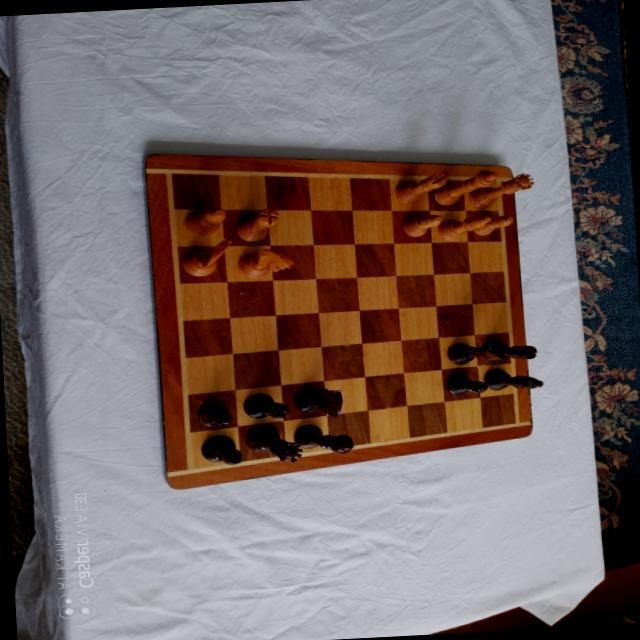black-bishop: (482, 365, 543, 392), (199, 433, 243, 467)
black-king: (294, 422, 354, 457)
black-knight: (293, 384, 345, 420), (446, 340, 508, 367)
black-pawn: (445, 372, 487, 396), (196, 400, 233, 427)
black-queen: (245, 421, 303, 464)
black-rook: (481, 336, 538, 363), (242, 392, 289, 420)
white-bishop: (435, 214, 492, 242)
white-king: (432, 169, 500, 206)
white-knight: (180, 238, 232, 277), (237, 246, 295, 277)
white-pawn: (185, 208, 227, 236), (402, 213, 442, 239), (470, 215, 513, 237)
white-queen: (467, 173, 536, 209)
white-rook: (394, 172, 450, 206), (234, 207, 282, 243)
